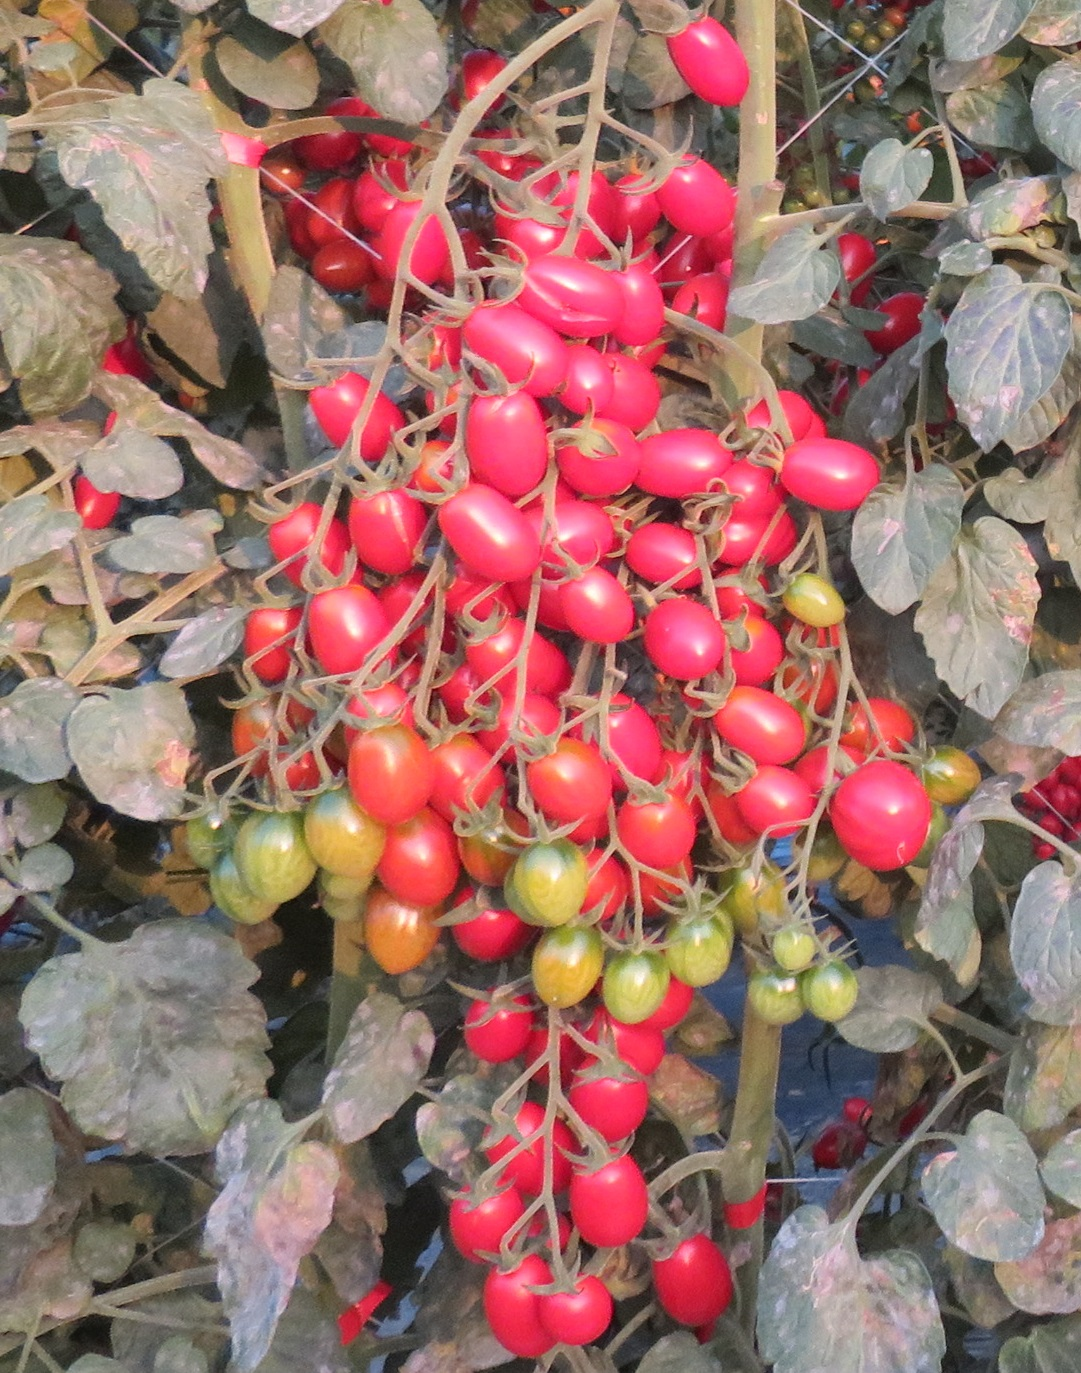green: (499, 834, 590, 929), (598, 936, 664, 1034), (303, 791, 380, 873), (230, 804, 303, 887), (530, 923, 597, 1011), (663, 899, 722, 990), (921, 744, 1014, 801), (767, 576, 853, 629), (809, 961, 860, 1024), (743, 977, 797, 1019), (776, 929, 822, 976)
orange: (529, 734, 616, 825), (347, 733, 432, 817), (357, 899, 437, 978)
red: (484, 259, 636, 334), (456, 301, 569, 399), (830, 767, 929, 871), (444, 486, 540, 583), (305, 368, 406, 458), (306, 584, 395, 686), (670, 10, 754, 109), (466, 396, 553, 491), (566, 1153, 646, 1249), (710, 690, 810, 763), (640, 604, 732, 681), (630, 429, 733, 497), (654, 157, 743, 233), (483, 1253, 544, 1356), (660, 1237, 729, 1326), (449, 1184, 534, 1256), (780, 441, 874, 506), (384, 822, 454, 909), (350, 486, 426, 561), (734, 776, 816, 843), (624, 260, 683, 349), (563, 577, 634, 651), (580, 1063, 643, 1145), (462, 1003, 536, 1069), (559, 421, 627, 491), (542, 1286, 614, 1344), (627, 524, 700, 581), (626, 171, 670, 236), (569, 340, 610, 407)
